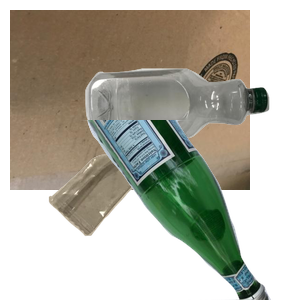cardboard: (10, 10, 250, 190)
glass: (75, 120, 300, 300)
plastic: (83, 66, 300, 201)
trash: (46, 144, 188, 300)
